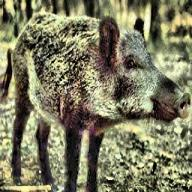boar: (7, 12, 192, 192)
